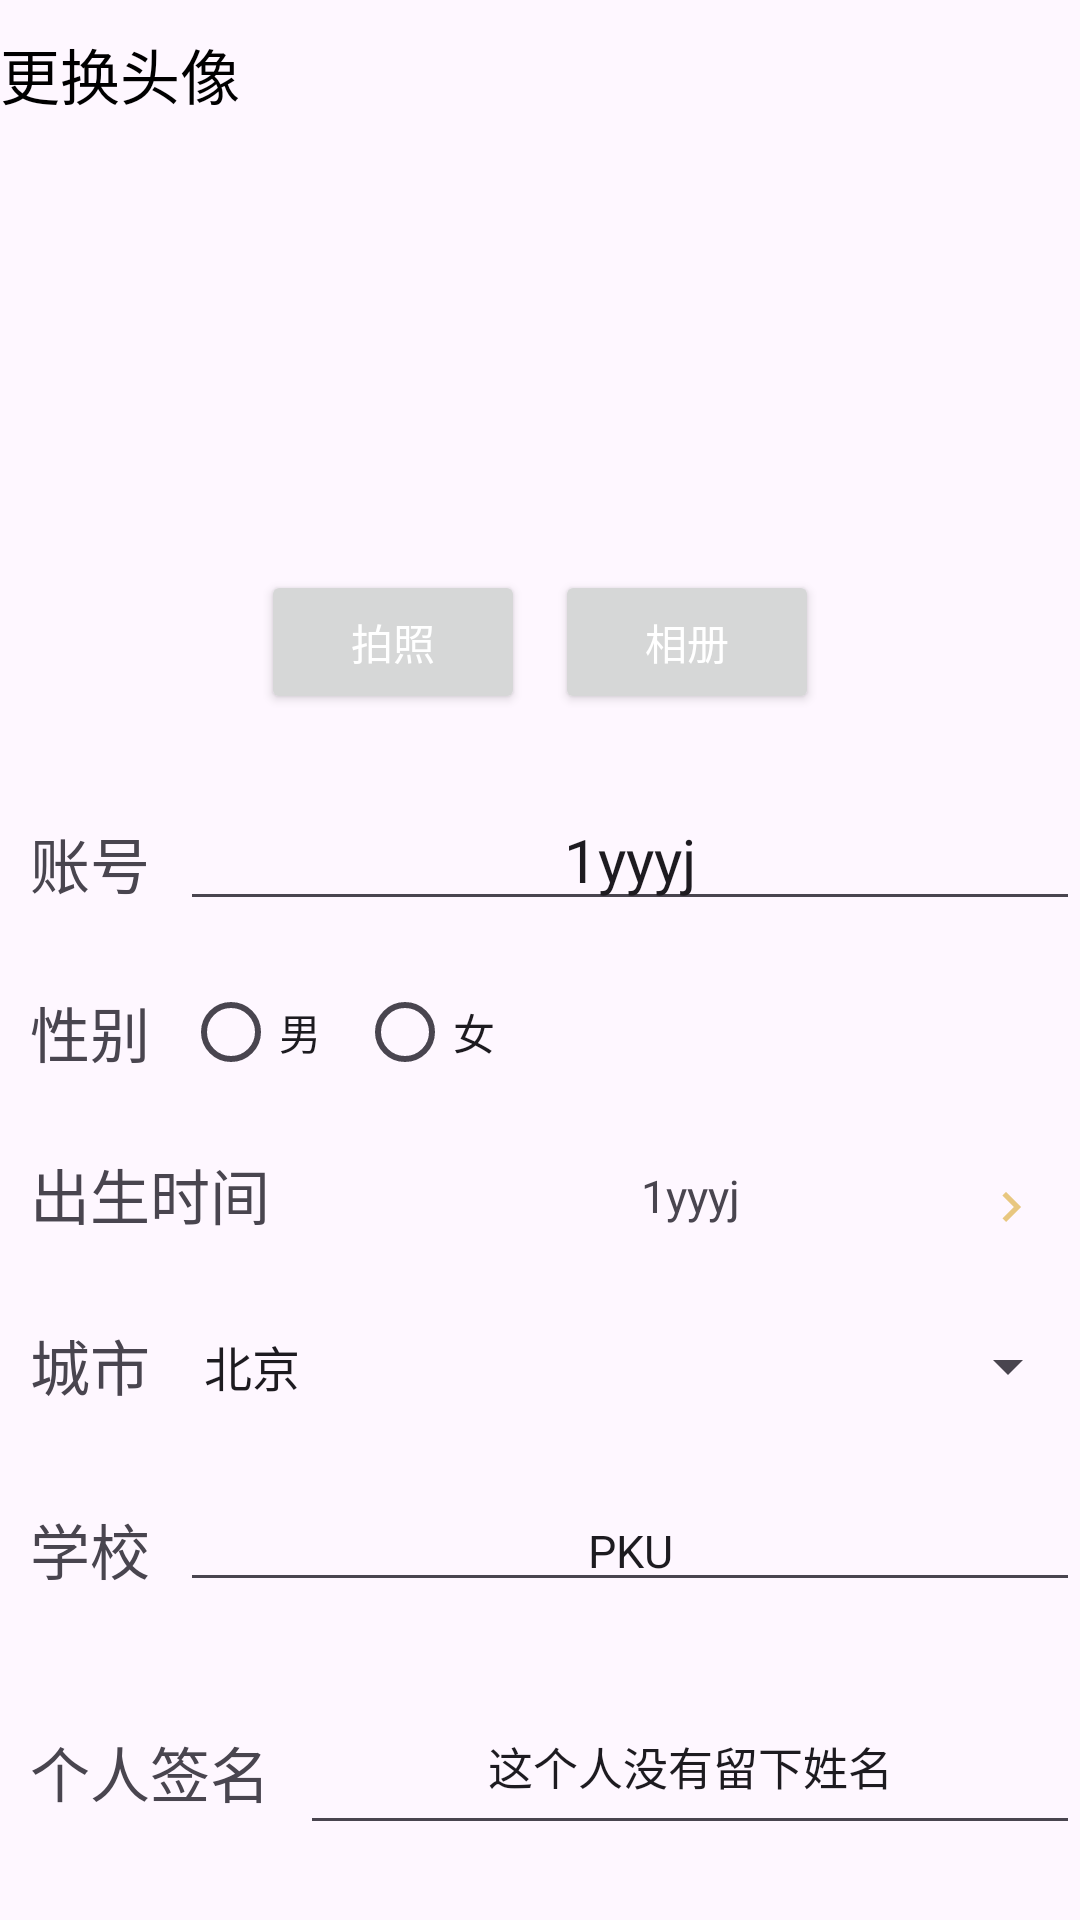

Icons on this 1080px×1920px Android screen, each with its box as (x1, y1, x2, y2):
keyboard arrow right: (1002, 1192, 1021, 1222)
